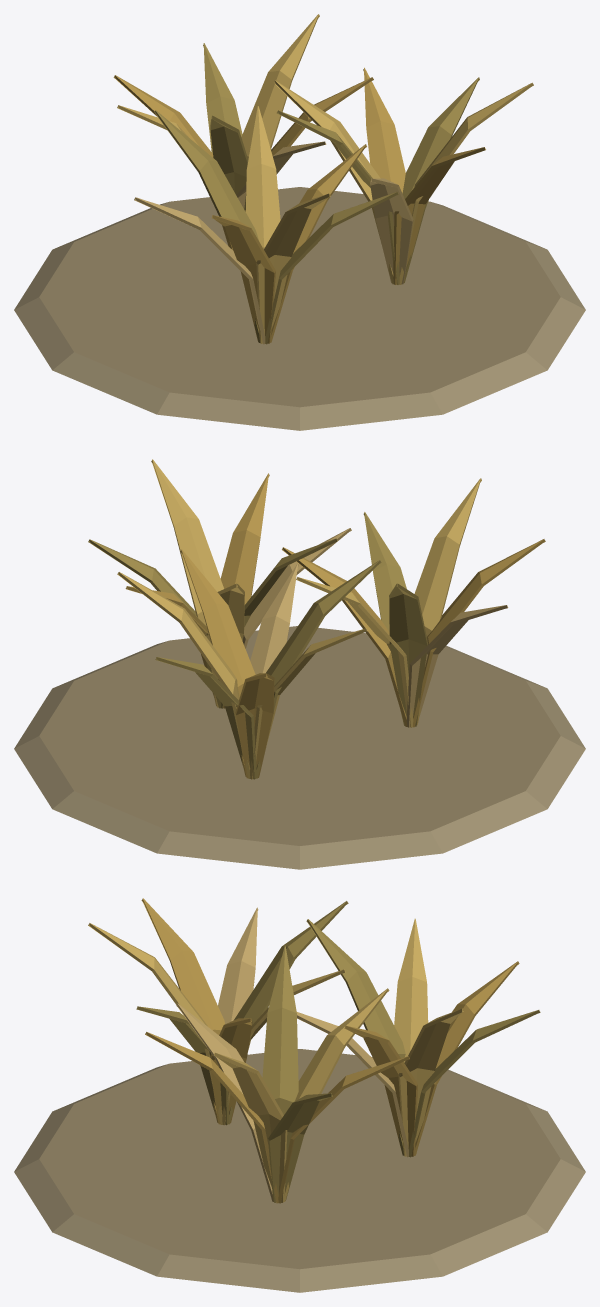
Rendered from AutumnGrassTuft.glb.
The picture shows the model from 3 angles, top to bottom: view 1: azimuth 30°, elevation 25°; view 2: azimuth 150°, elevation 25°; view 3: azimuth 270°, elevation 25°; orthographic projection.
Visible parts, largest first — view 1: AutumnGrassTuft_Base, AutumnGrassTuft_Foliage; view 2: AutumnGrassTuft_Base, AutumnGrassTuft_Foliage; view 3: AutumnGrassTuft_Base, AutumnGrassTuft_Foliage.
Boxes of the visible parts, left/top/right/bottom form: AutumnGrassTuft_Base: left=14, top=187, right=585, bottom=430; AutumnGrassTuft_Foliage: left=113, top=14, right=533, bottom=344; AutumnGrassTuft_Base: left=14, top=626, right=585, bottom=869; AutumnGrassTuft_Foliage: left=88, top=459, right=545, bottom=779; AutumnGrassTuft_Base: left=14, top=1049, right=585, bottom=1292; AutumnGrassTuft_Foliage: left=88, top=898, right=540, bottom=1203.
Bounding box in the file's own units: 0.68 × 0.2922 × 0.68.
